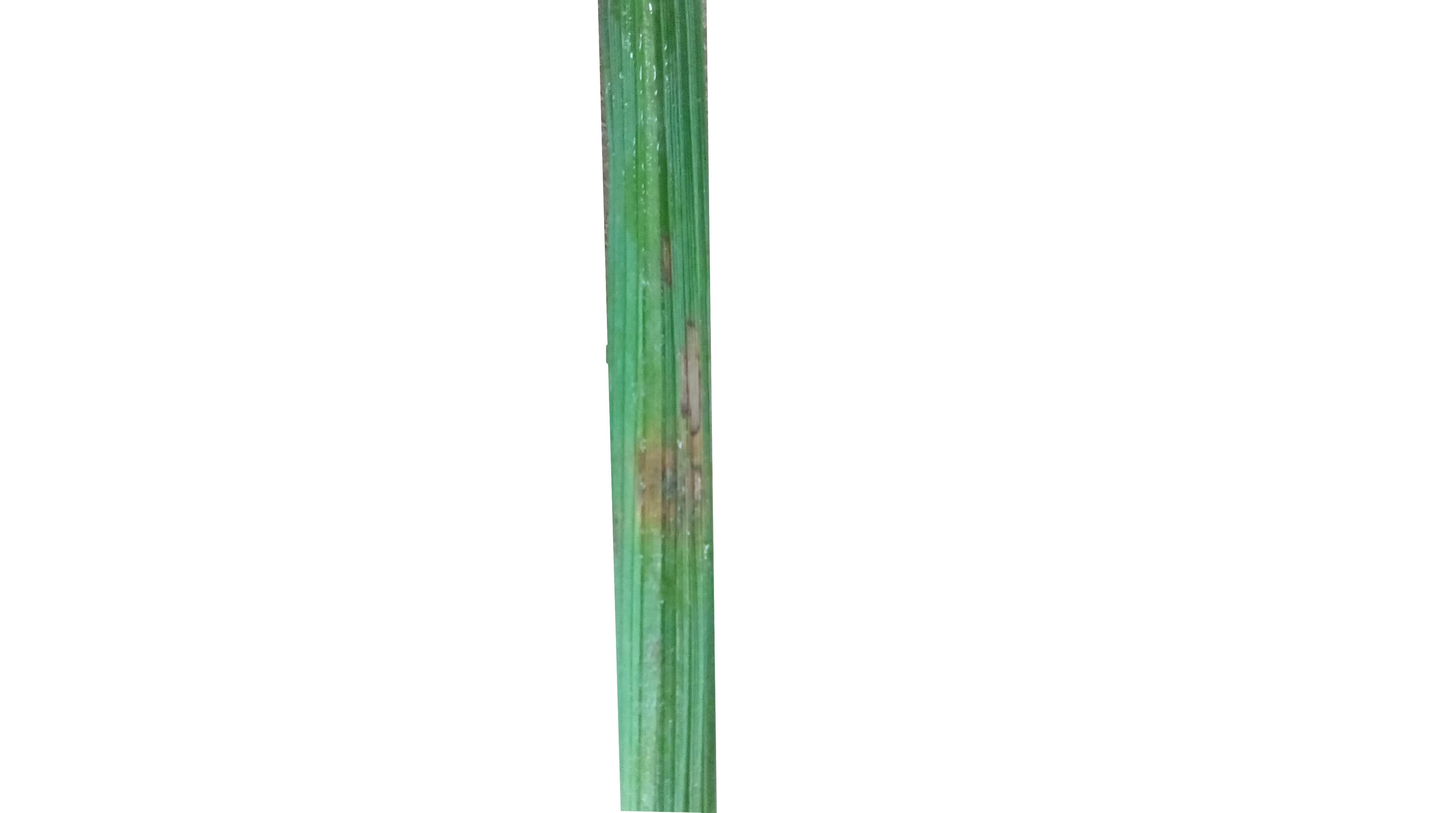Rice blast: (629, 302, 707, 577), (655, 229, 680, 292)
